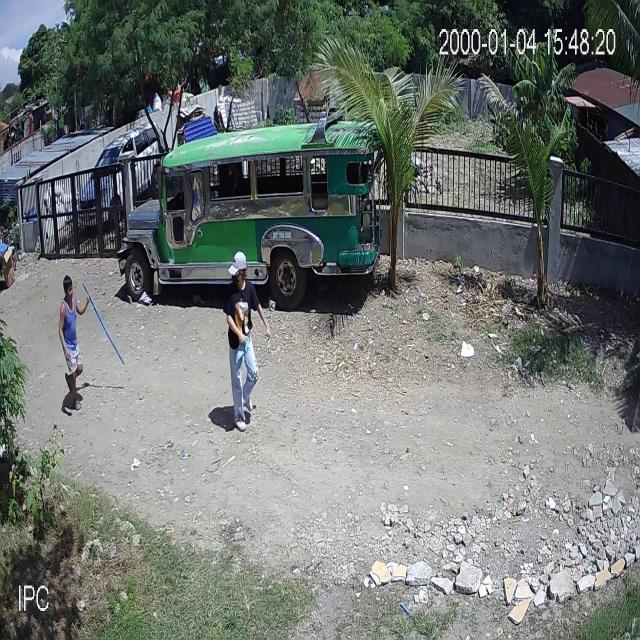running: (58, 275, 125, 409)
walking: (222, 250, 270, 431)
